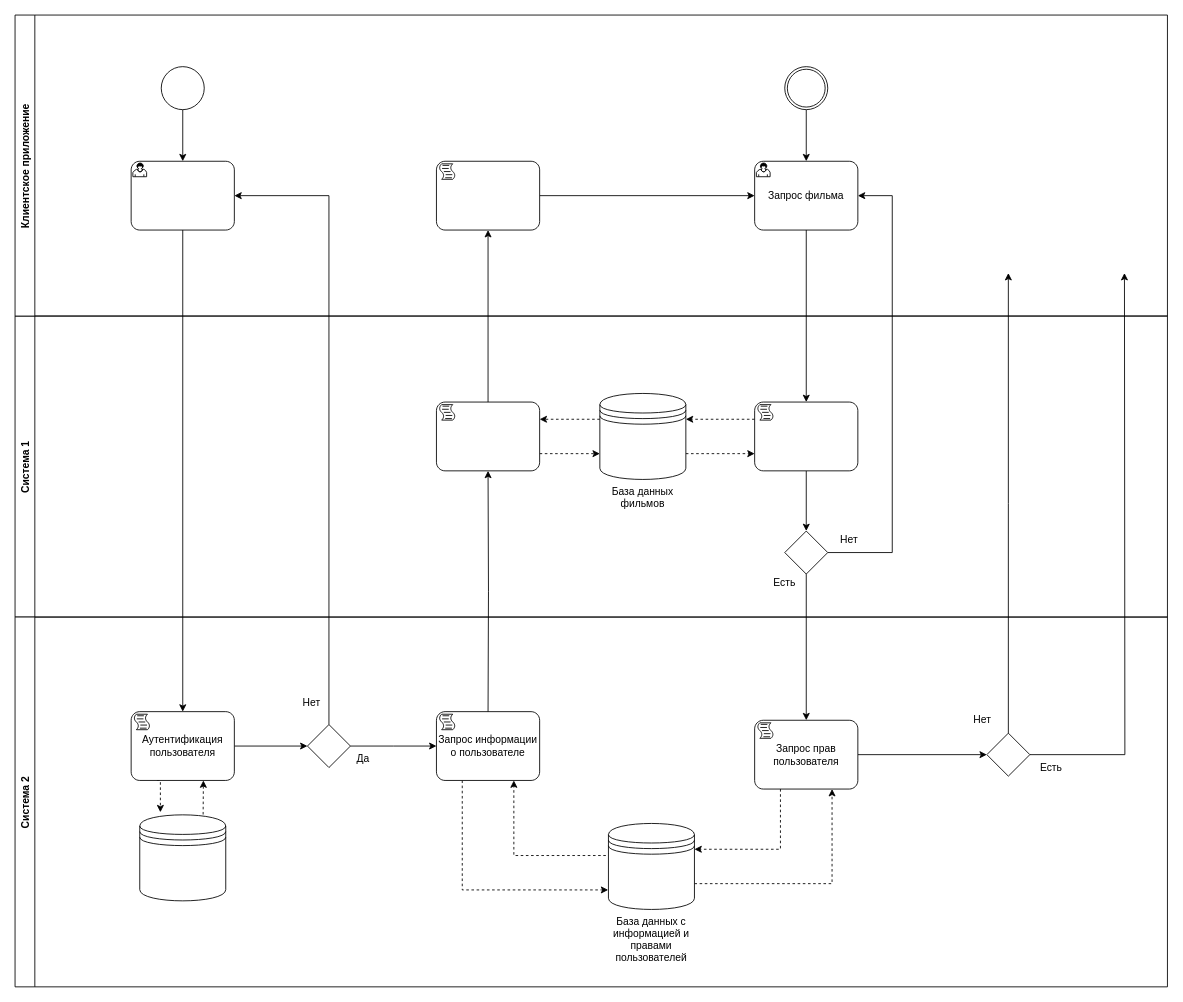
Image size: 1183x1002. Some labels were removed from this diagram. Each missing label, with the centre of its shape:
"Запрос аутентификации" belongs at (182,195).
"Логины и пароли пользователей" belongs at (182,857).
"Отрисовка витрины на пользовательском устройстве" belongs at (488,195).
"Поиск фильма в базе" belongs at (806,436).
"Формирование витрины контента" belongs at (488,436).
